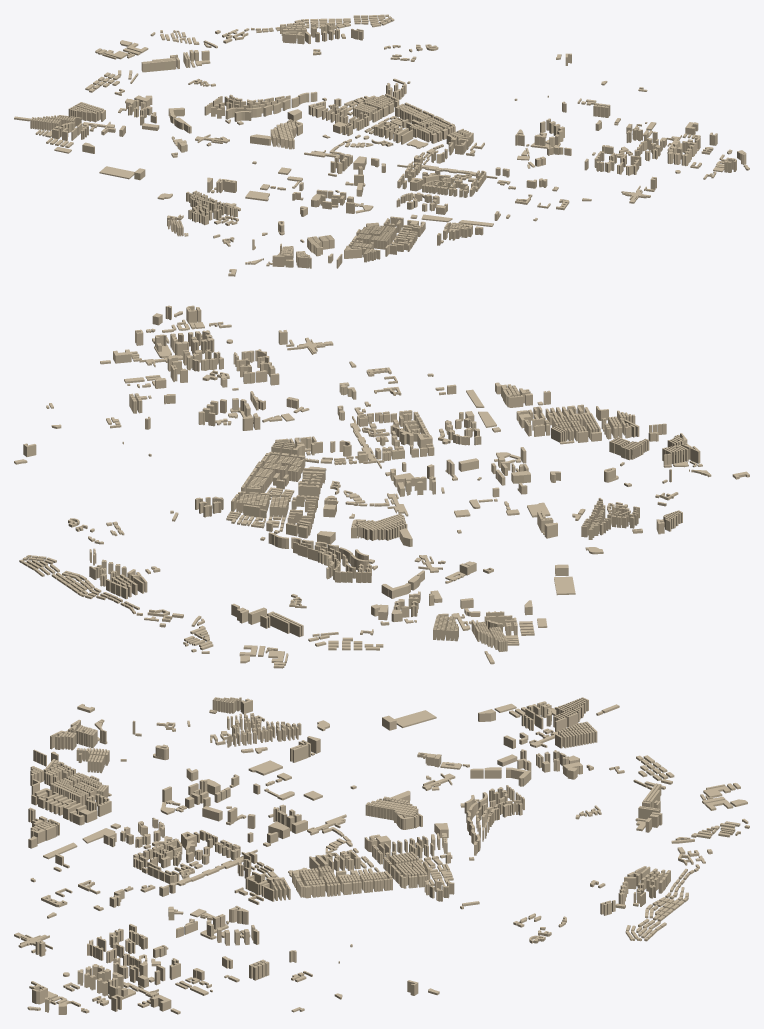
File: overview-estimated--4_1.glb
3 renders of one model, top to bottom at view 1: azimuth 30°, elevation 25°; view 2: azimuth 150°, elevation 25°; view 3: azimuth 270°, elevation 25°, orthographic. The views are drawn at different scales.
Size of the model in its own units: 4063 by 79.56 by 4076.
